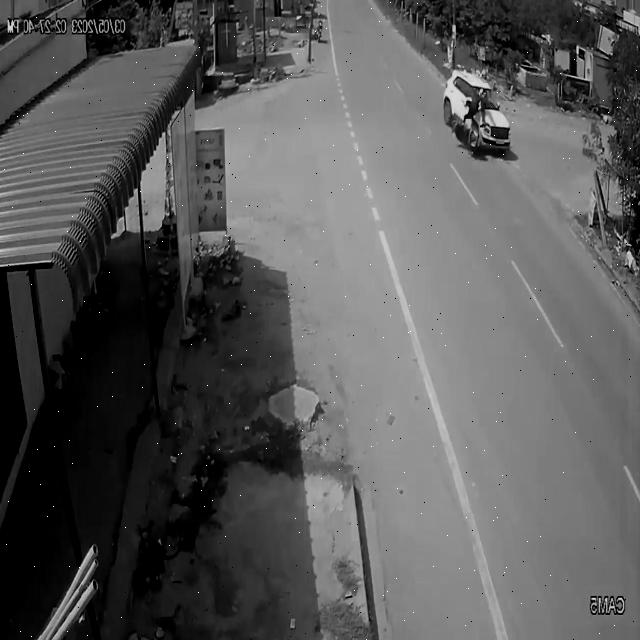accident: (435, 56, 520, 175)
